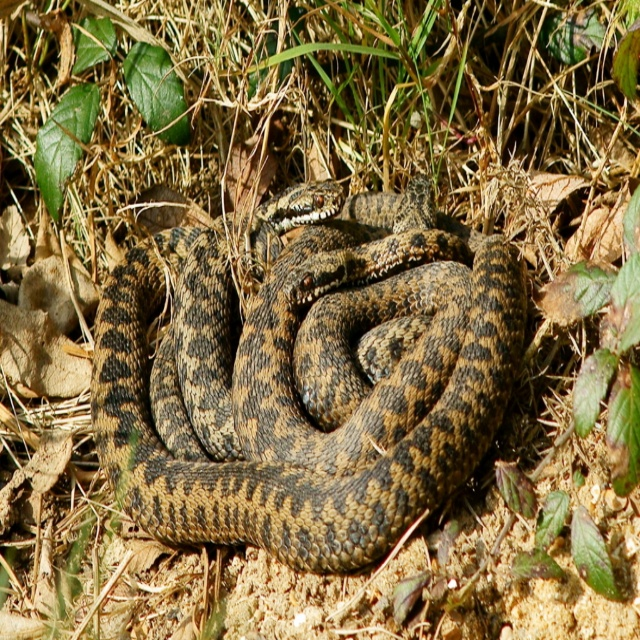Snake: (86, 182, 528, 580)
